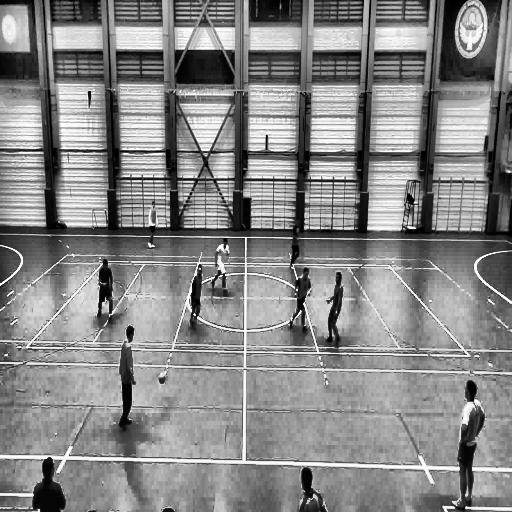ball: (158, 372, 166, 383)
player: (449, 381, 483, 509), (119, 324, 136, 429), (291, 267, 311, 333), (326, 272, 343, 346), (97, 259, 113, 324), (212, 237, 230, 293), (190, 264, 204, 326), (289, 224, 300, 269), (148, 202, 158, 247)
